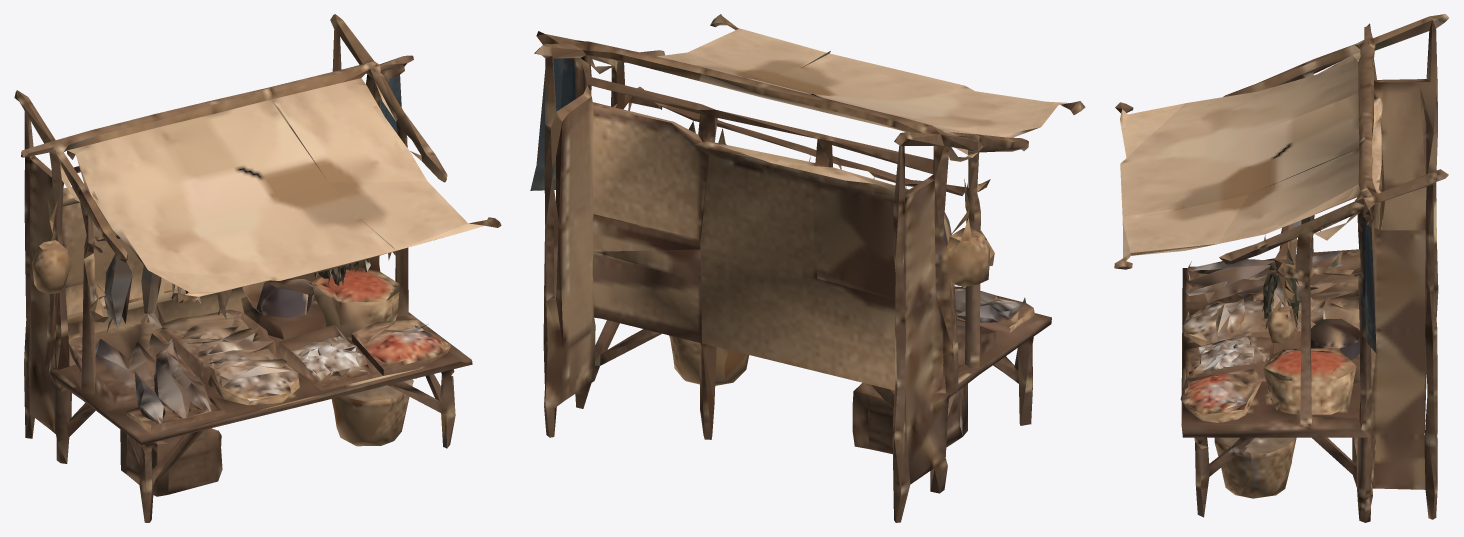
The model's file is 06_Fish_Dried_Goods_Stall_LOD2.fbx.
3 renders of one model, left to right at view 1: azimuth 30°, elevation 25°; view 2: azimuth 150°, elevation 25°; view 3: azimuth 270°, elevation 25°, orthographic. The views are drawn at different scales.
Parts seen in each view (by area): view 1: 06_Fish_Dried_Goods_Stall_L2; view 2: 06_Fish_Dried_Goods_Stall_L2; view 3: 06_Fish_Dried_Goods_Stall_L2.
Boxes of the visible parts, x1=… form: 06_Fish_Dried_Goods_Stall_L2: x1=14, y1=14, x2=501, y2=522; 06_Fish_Dried_Goods_Stall_L2: x1=530, y1=14, x2=1085, y2=522; 06_Fish_Dried_Goods_Stall_L2: x1=1114, y1=14, x2=1448, y2=522.
Bounding box in the file's own units: 2.84 × 2.4 × 2.08.
